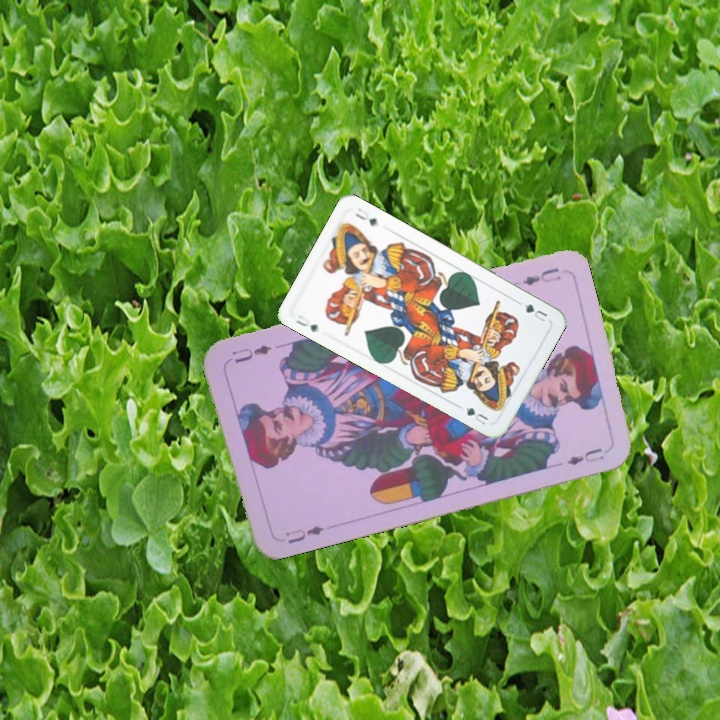EU: (281, 521, 327, 547), (518, 263, 563, 288)
GU: (520, 300, 550, 324), (292, 311, 320, 335)
